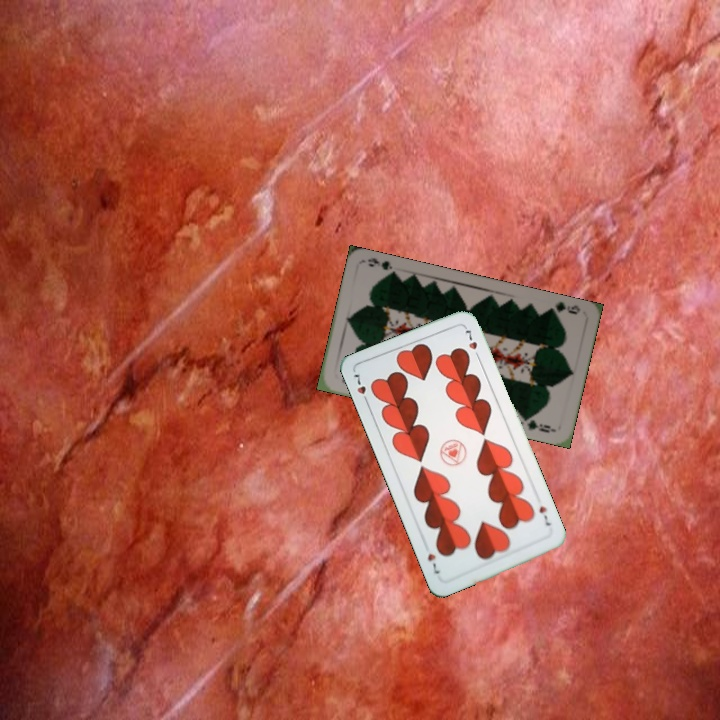G9: (543, 298, 583, 317)
H7: (350, 370, 371, 407), (535, 502, 553, 529)
